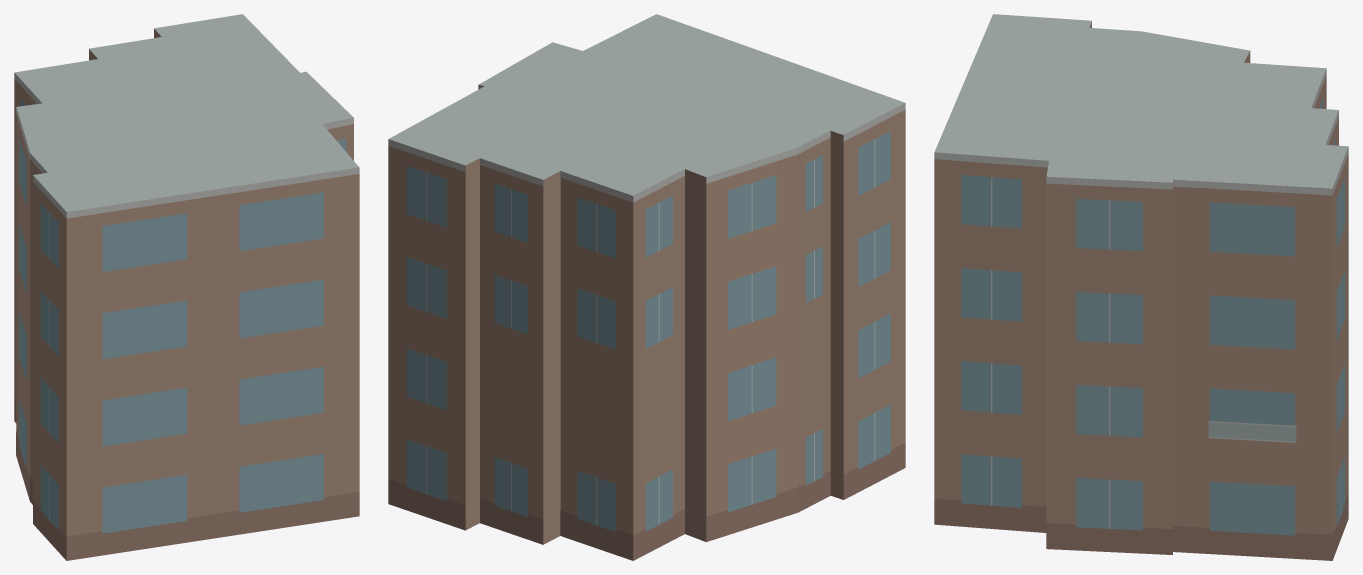
Rendered from survey-upis-32920895.glb.
3 renders of one model, left to right at view 1: azimuth 30°, elevation 25°; view 2: azimuth 150°, elevation 25°; view 3: azimuth 270°, elevation 25°, orthographic. The views are drawn at different scales.
Visible parts, largest first — view 1: survey-upis-32920895.tmp; view 2: survey-upis-32920895.tmp; view 3: survey-upis-32920895.tmp.
Part boxes in pixels (box(x1,y1,x2,y2)): survey-upis-32920895.tmp: box(14, 14, 359, 560); survey-upis-32920895.tmp: box(388, 14, 905, 560); survey-upis-32920895.tmp: box(934, 14, 1348, 560).
Size of the model in its own units: 13.39 by 13.3 by 13.42.
